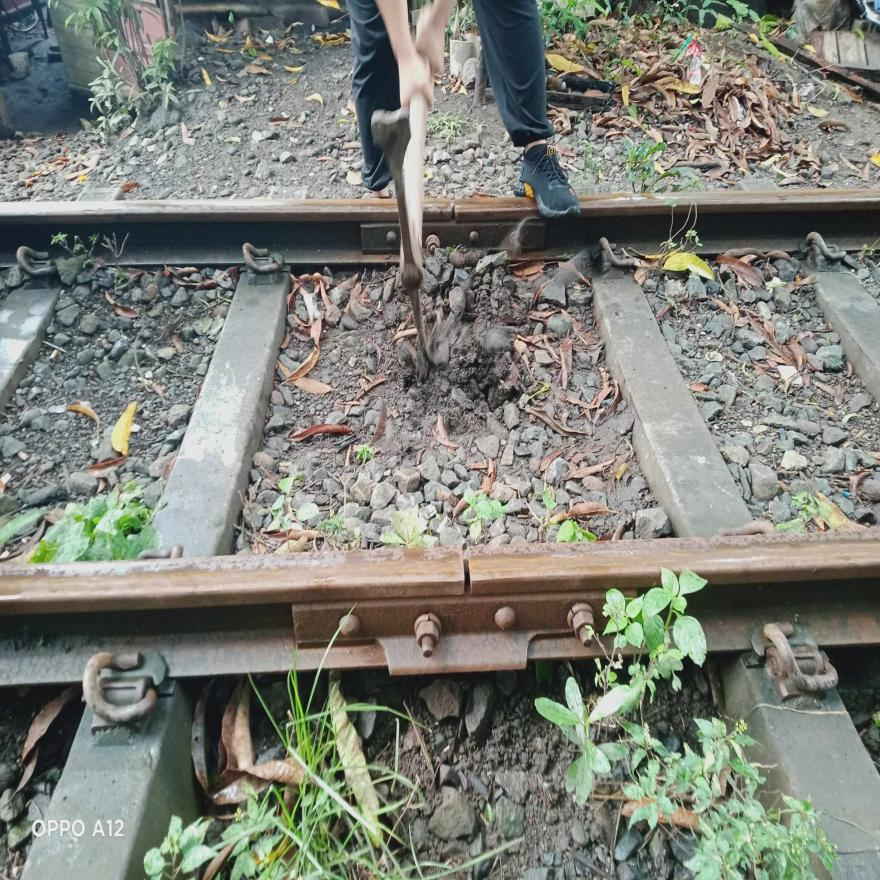railway-gap: (430, 526, 506, 623), (433, 183, 478, 237)
